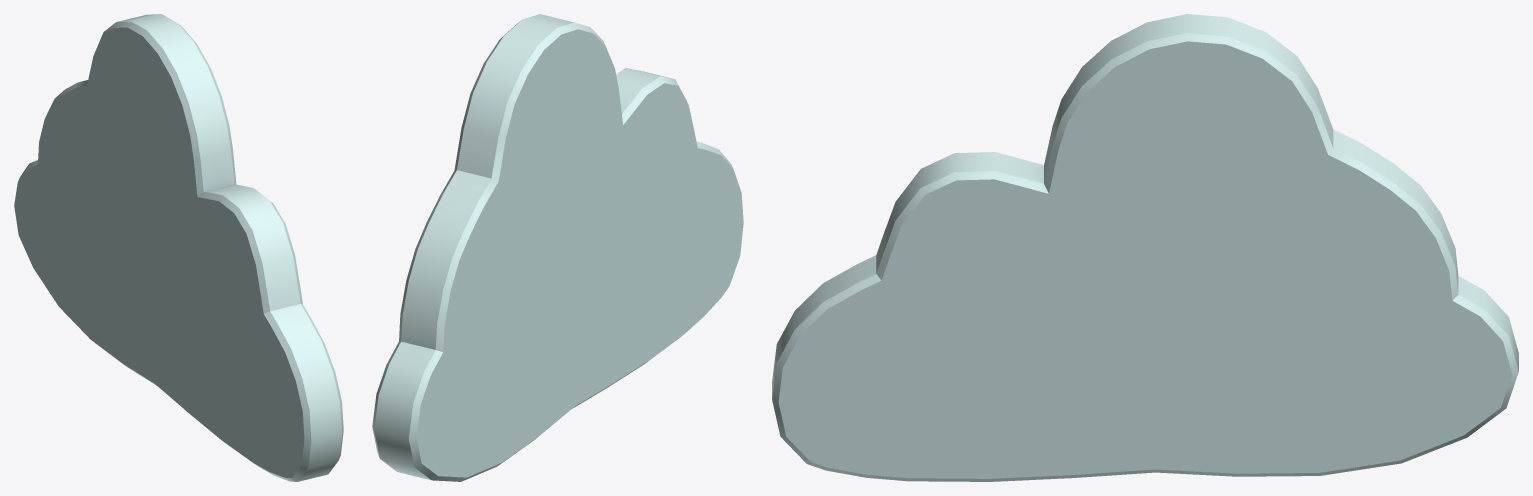
The model's file is platcloud02.fbx.
3 renders of one model, left to right at view 1: azimuth 30°, elevation 25°; view 2: azimuth 150°, elevation 25°; view 3: azimuth 270°, elevation 25°, orthographic. The views are drawn at different scales.
Parts seen in each view (by area): view 1: platcloud02; view 2: platcloud02; view 3: platcloud02.
Part boxes in pixels (x1,y1,x2,y2): platcloud02: (14,14,343,481); platcloud02: (372,14,743,481); platcloud02: (772,14,1518,481).
Size of the model in its own units: 47.31 by 409 by 616.
